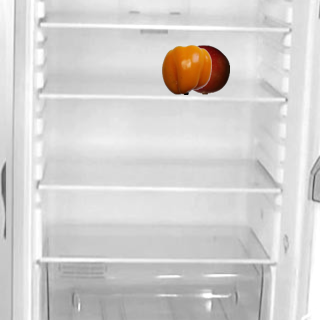Apple Braeburn: (179, 44, 229, 94)
Pepper Yellow: (161, 44, 211, 94)
